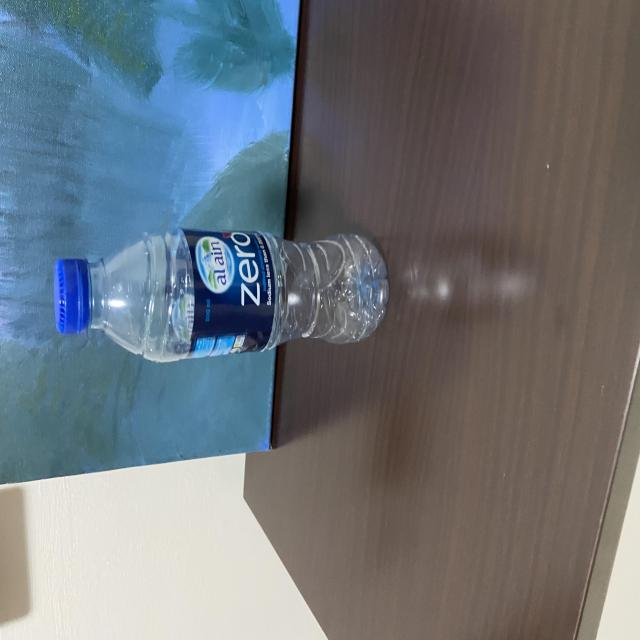bottle: (48, 215, 377, 372)
